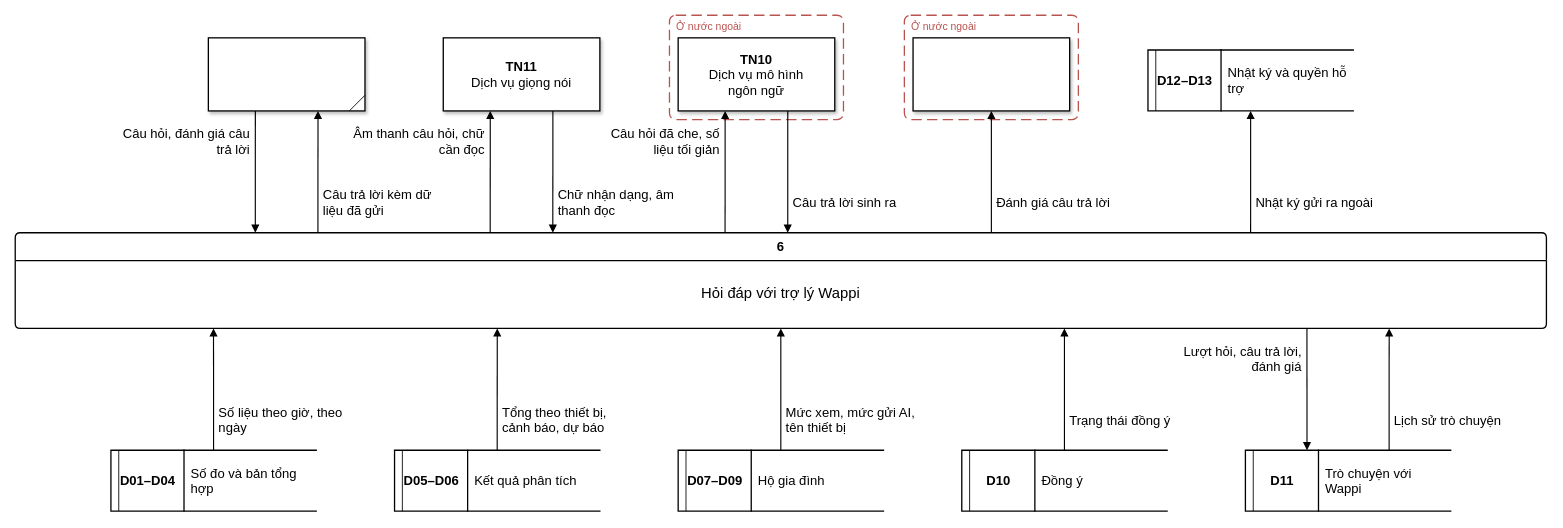
The diagram is 1563 pixels wide and 528 high, and some of its shapes have lost their labels. The centre of each missing label's shape, as x and y in pixels:
"TN02, TN03, TN04 Người dùng đã đăng nhập" belongs at pixel 287 75.
"TN14 Dịch vụ nhắn tin cho người vận hành" belongs at pixel 992 75.
